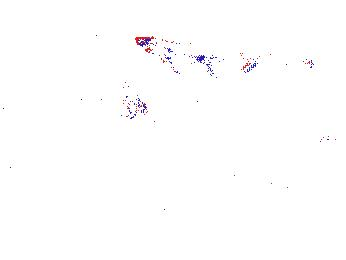X-ray fish: (108, 83, 147, 122), (71, 90, 100, 122), (150, 116, 170, 159)
red belly glassfish: (299, 133, 339, 151), (307, 166, 339, 180)
redtail glassfish: (133, 34, 216, 78), (236, 48, 316, 82)
